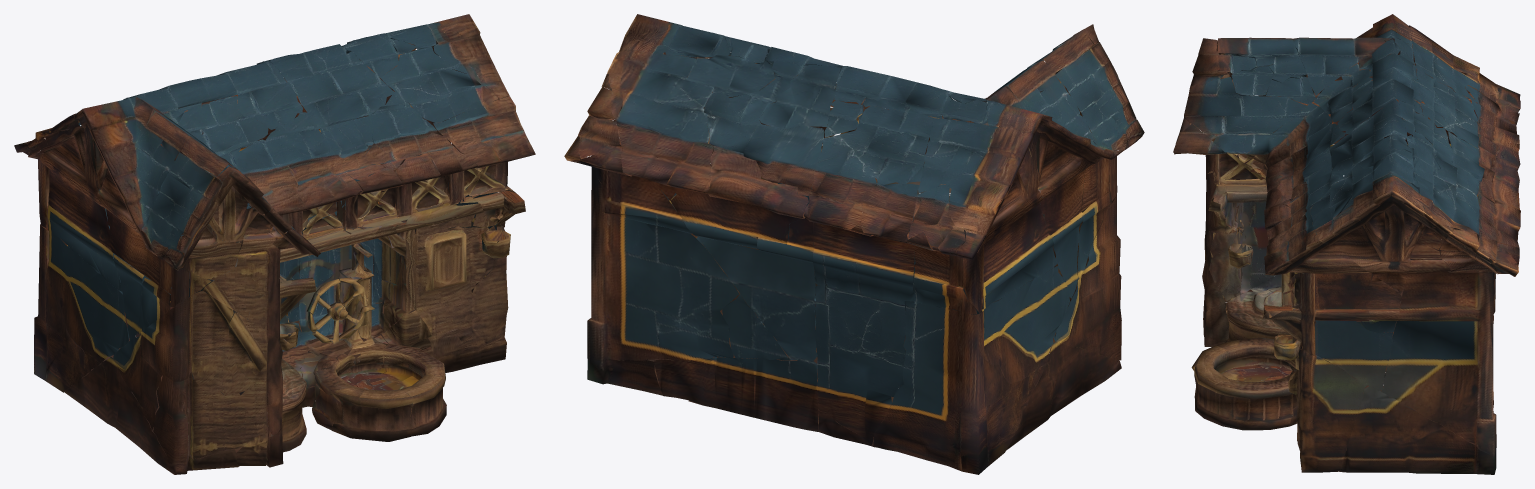
The model's file is mesh_waterworks_a.glb.
3 views of the same model, side by side, from view 1: azimuth 30°, elevation 25°; view 2: azimuth 150°, elevation 25°; view 3: azimuth 270°, elevation 25° (orthographic). The views are drawn at different scales.
Parts seen in each view (by area): view 1: mesh_waterworks_a__mesh_waterworks_a__Mesh_0; view 2: mesh_waterworks_a__mesh_waterworks_a__Mesh_0; view 3: mesh_waterworks_a__mesh_waterworks_a__Mesh_0.
Boxes of the visible parts, x1,y1,x2,y2 form: mesh_waterworks_a__mesh_waterworks_a__Mesh_0: [14, 14, 535, 474]; mesh_waterworks_a__mesh_waterworks_a__Mesh_0: [564, 14, 1144, 474]; mesh_waterworks_a__mesh_waterworks_a__Mesh_0: [1173, 14, 1520, 474].
Bounding box in the file's own units: 18 × 13.58 × 14.79.
1 material, 1 textured.
